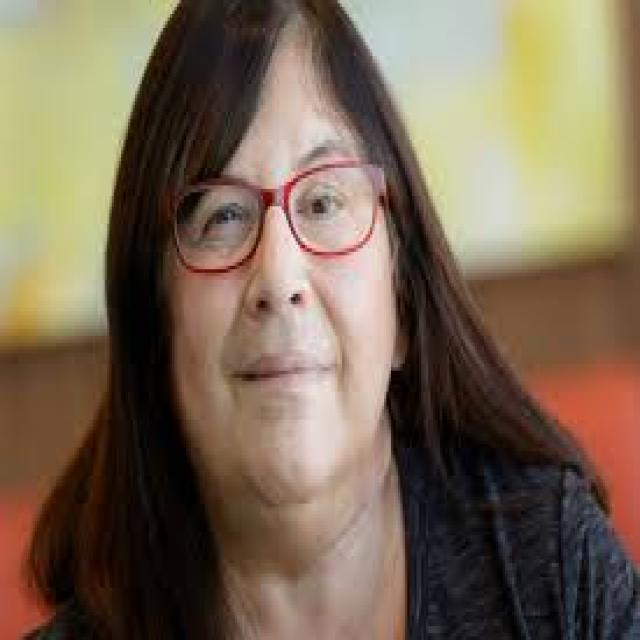stroke_face: (144, 11, 401, 516)
